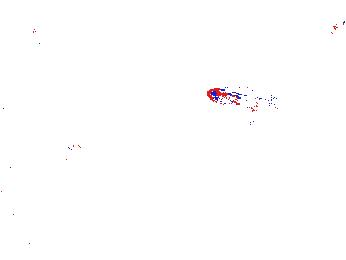red belly glassfish: (205, 85, 281, 110), (245, 104, 261, 135), (327, 20, 346, 37)
redtail glassfish: (26, 132, 86, 198), (1, 13, 47, 50)
